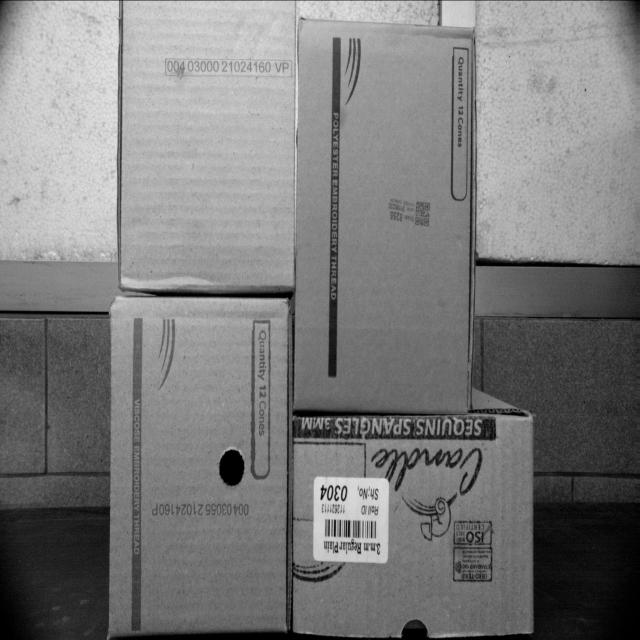cardboxes: (294, 24, 478, 406), (109, 296, 291, 639), (291, 417, 535, 639), (118, 0, 294, 291)
